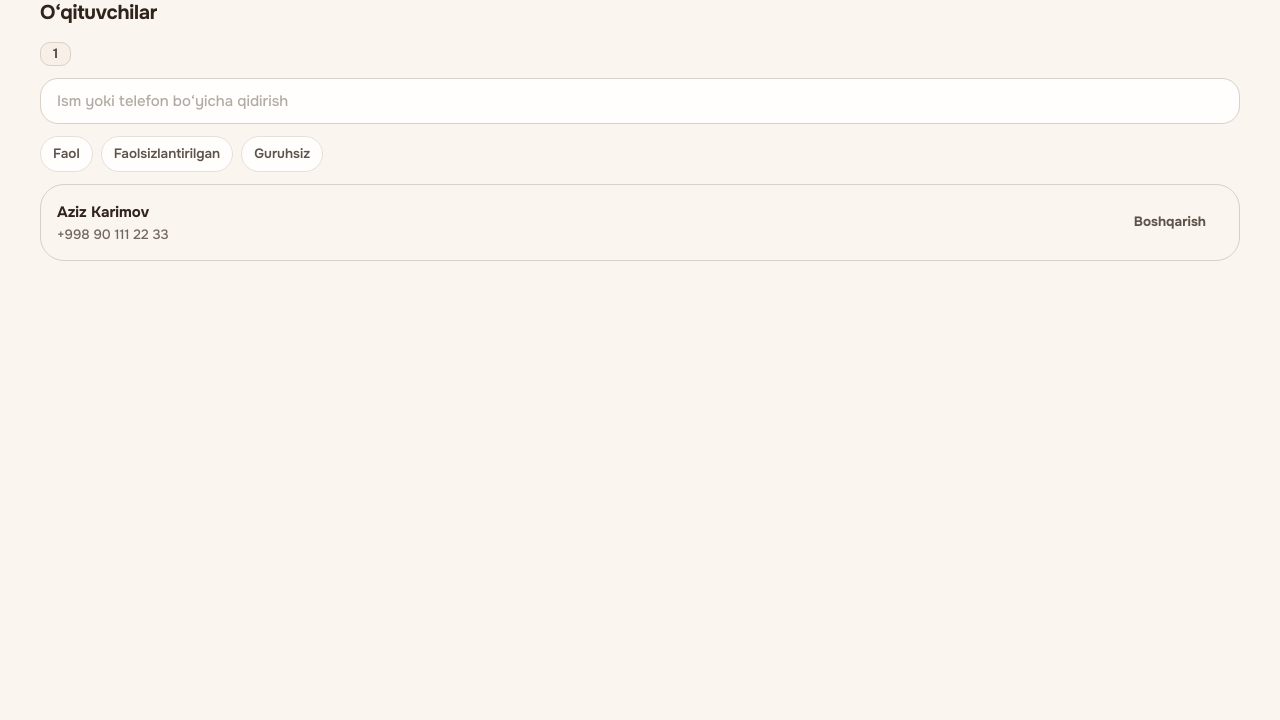
Test case: Guruhni o'tkazish › keeps the dialog open on a refusal and explains it by code, never by detail
Click the button "Boshqarish" at (1170, 222), box [1117,202,1223,242]
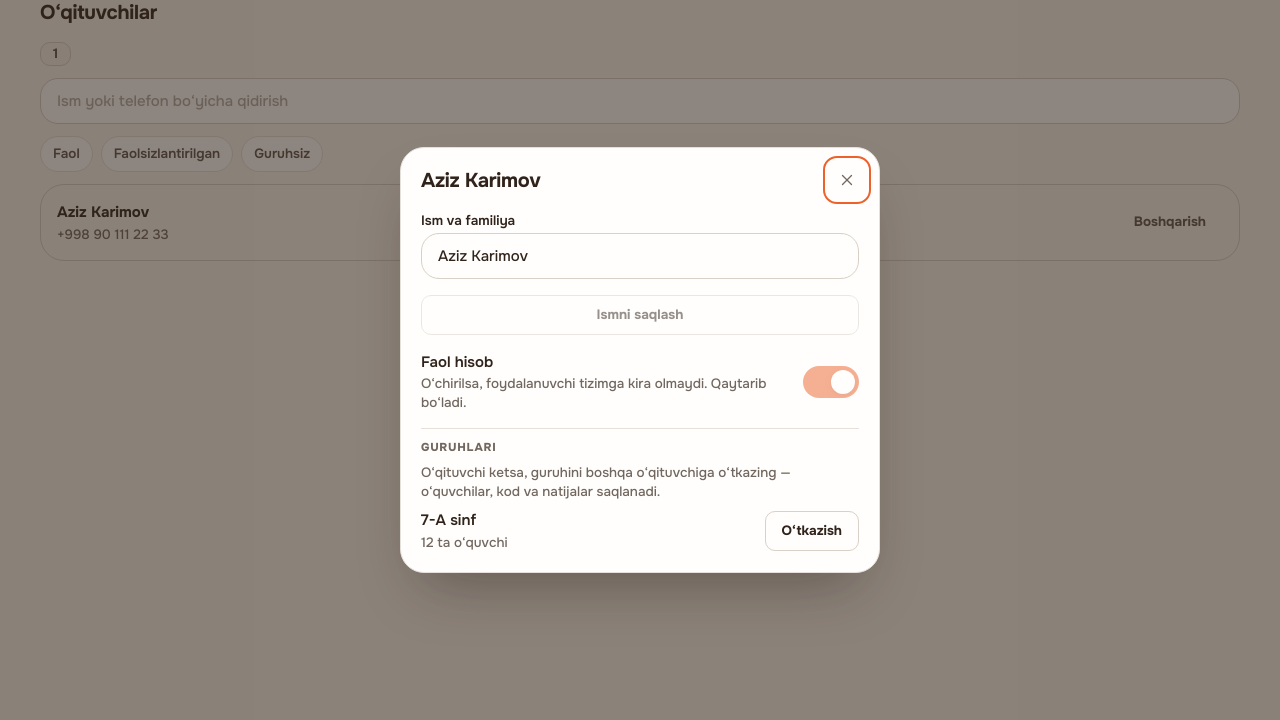
Click the button "O‘tkazish" at (812, 530), box [764,510,859,550]
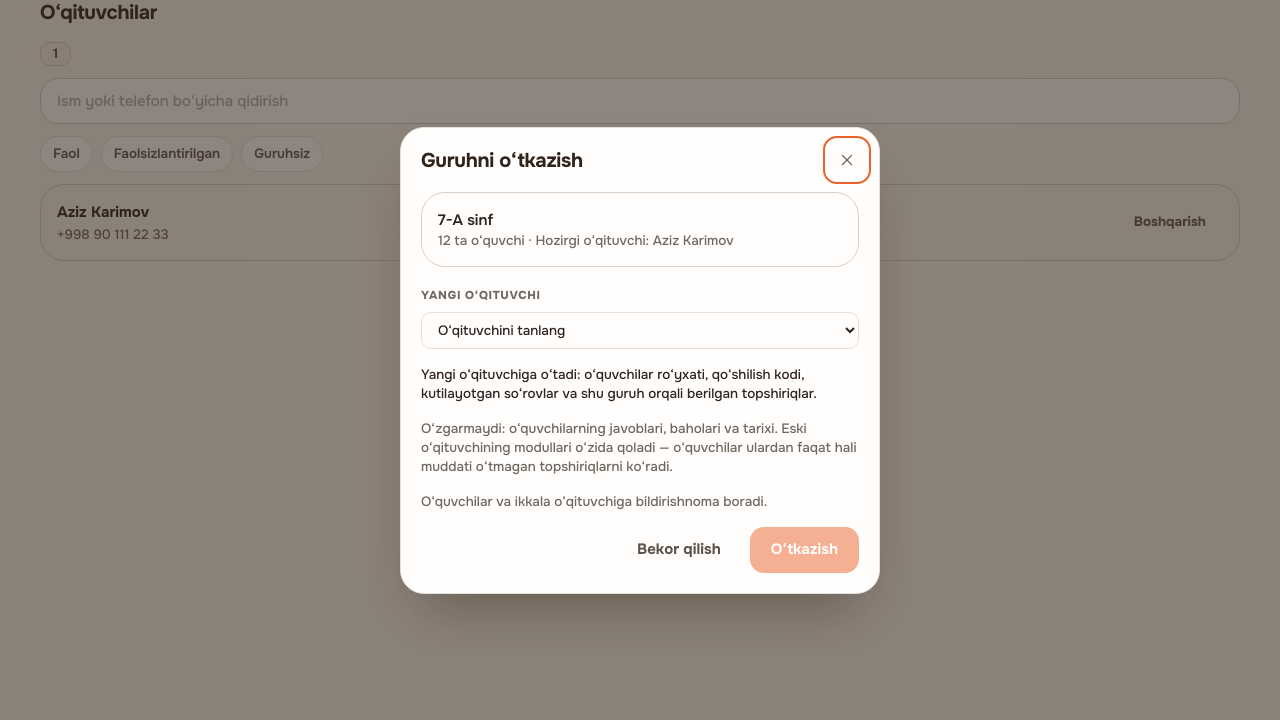
Now the heading "Guruhni o‘tkazish" is shown, box [421,148,583,172]
Select "Nodira Tosheva" in the dropdown labelled "Yangi o‘qituvchi" at (640, 330), box [421,312,859,348]
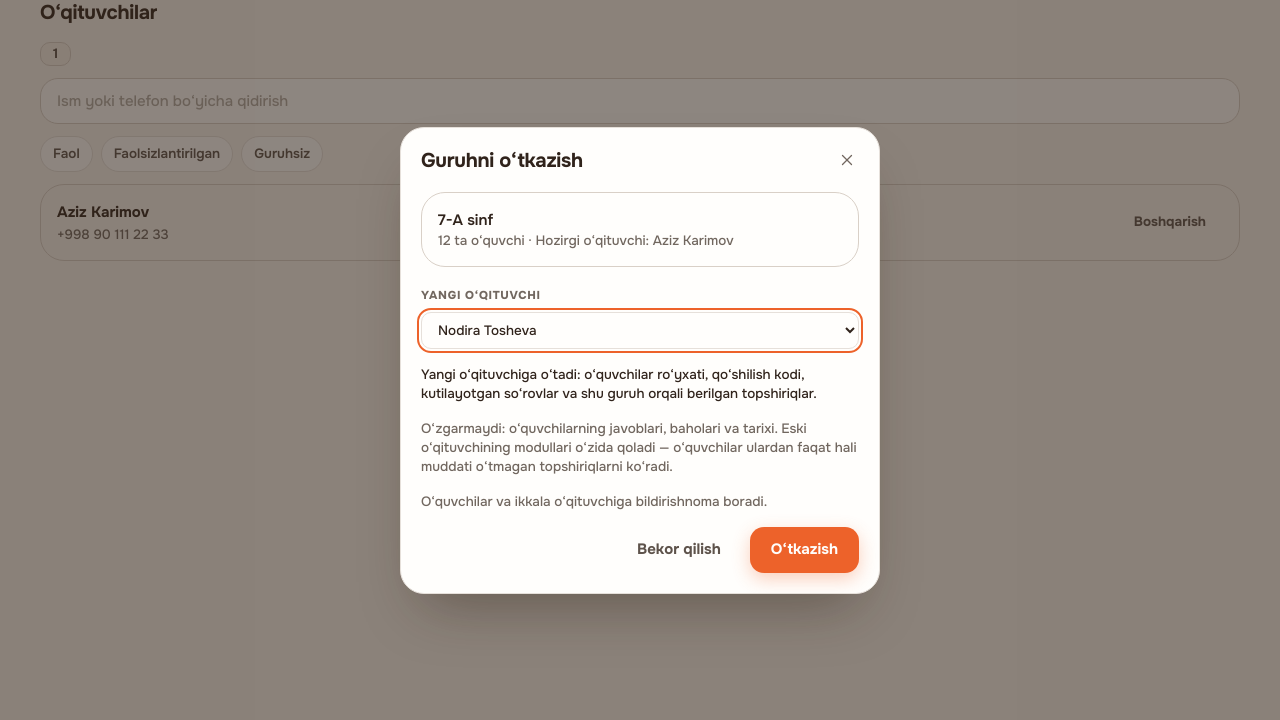
Click the button "O‘tkazish" at (804, 550), box [750,526,859,572]
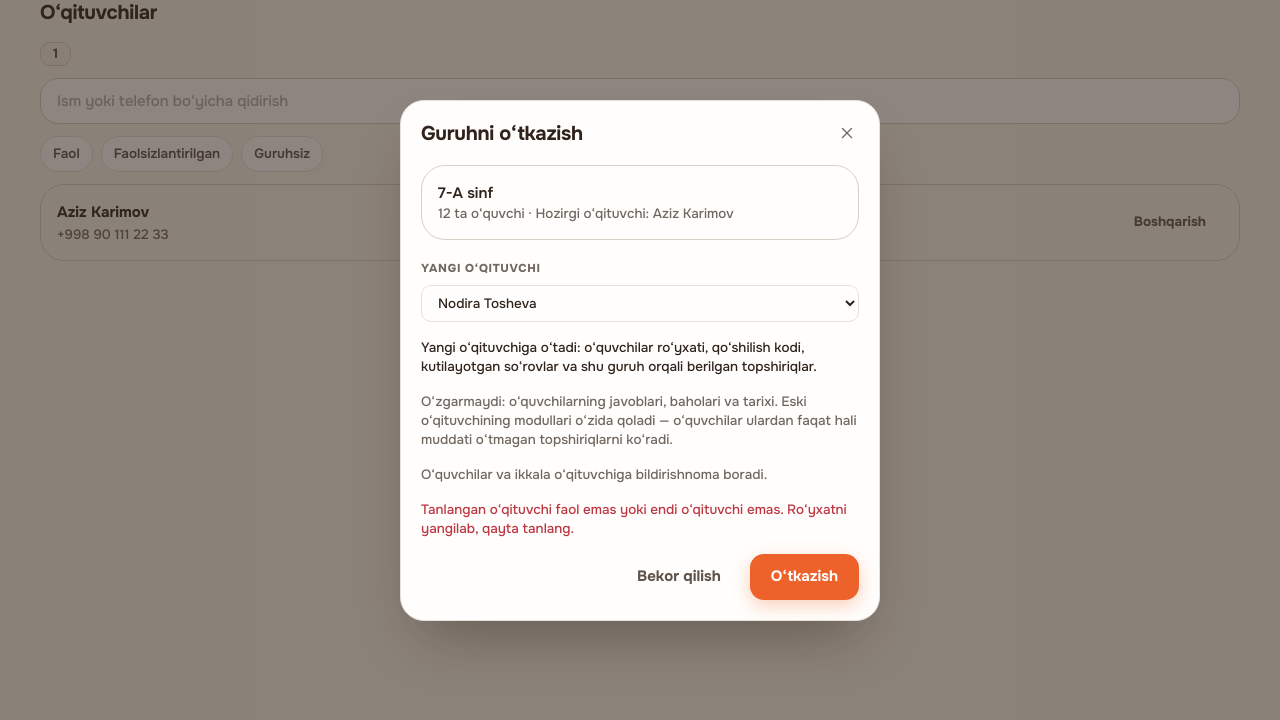
Now the dialog is shown, box [400,100,880,620]
Now the message shows "Tanlangan o‘qituvchi faol emas yoki endi o‘qituvchi emas. Ro‘yxatni yangilab, qayta tanlang.", box [421,500,847,536]
